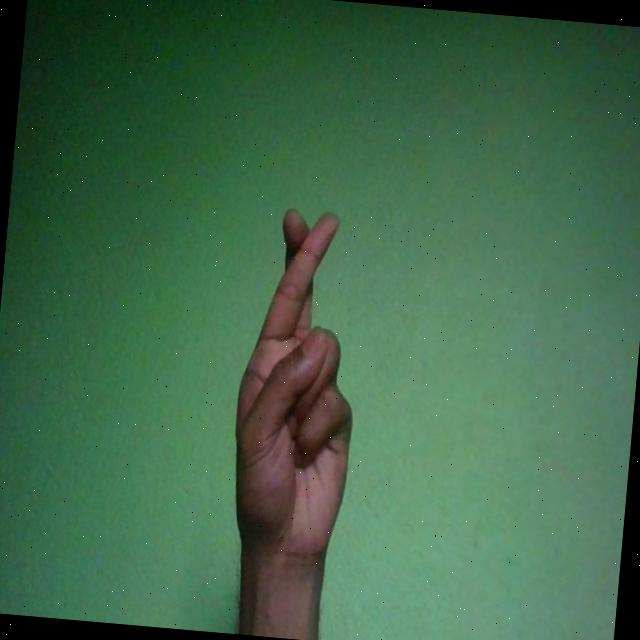Ok: (222, 202, 370, 568)
